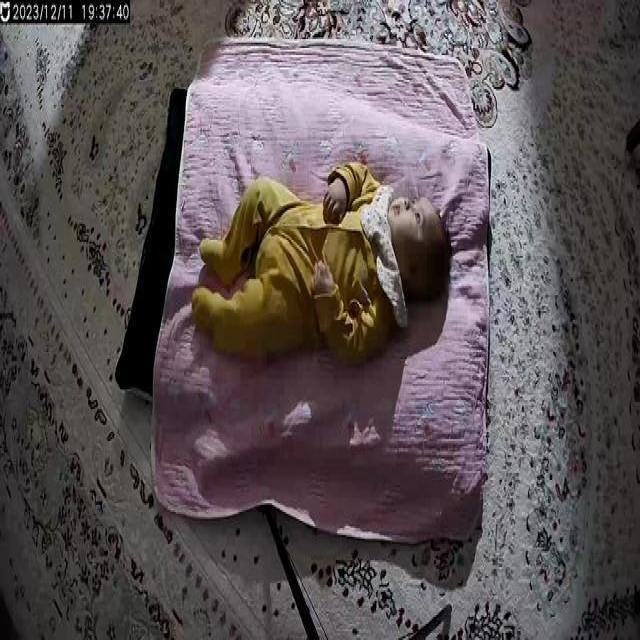baby: (192, 156, 455, 374)
